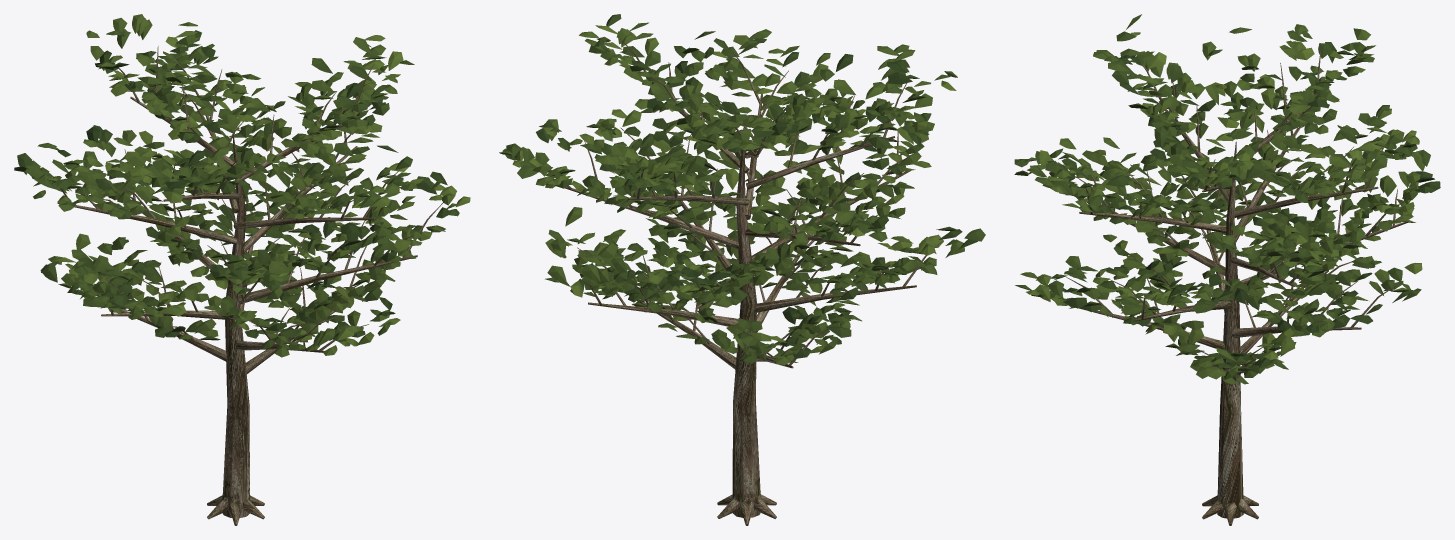
File: oak1.glb
3 renders of one model, left to right at view 1: azimuth 30°, elevation 25°; view 2: azimuth 150°, elevation 25°; view 3: azimuth 270°, elevation 25°, orthographic. The views are drawn at different scales.
Parts seen in each view (by area): view 1: Tree; view 2: Tree; view 3: Tree.
Part boxes in pixels (box(x1,y1,x2,y2)): Tree: box(14, 14, 470, 525); Tree: box(499, 14, 985, 525); Tree: box(1014, 14, 1440, 525).
Size of the model in its own units: 7.67 by 8.47 by 7.33.
Materials: 1 (1 with a texture image).
